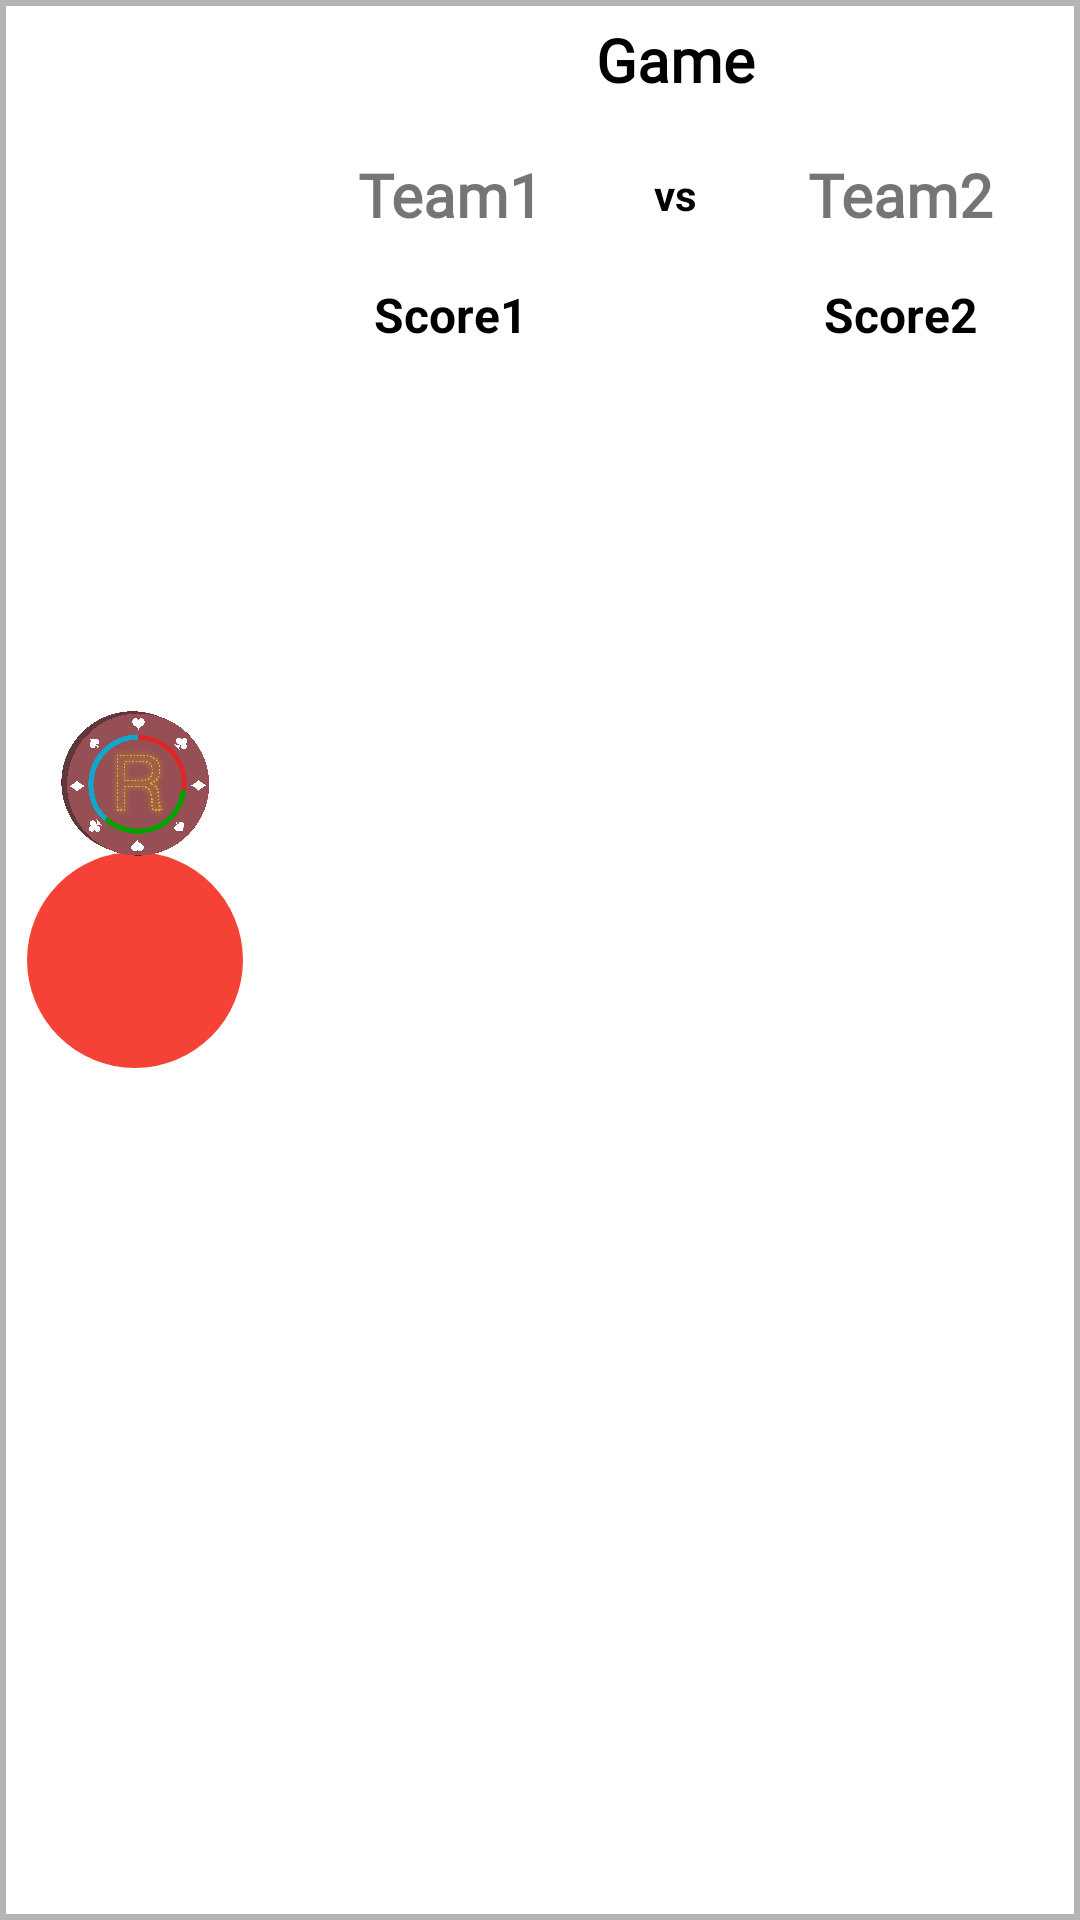

Locate icon controls on the screen. Image size 1080px×1920px, boxes as (left=x1, top=y1, right=x2, bottom=y2).
pokerchip: (left=61, top=711, right=209, bottom=858)
